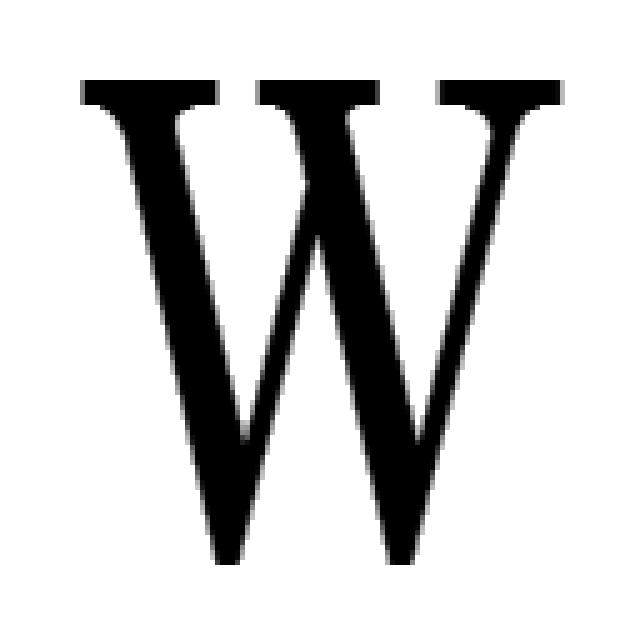W: (70, 60, 570, 570)
